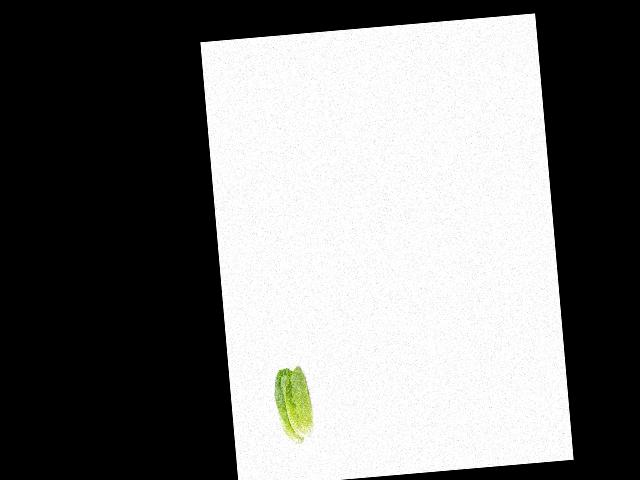lettuce: (272, 363, 319, 445)
